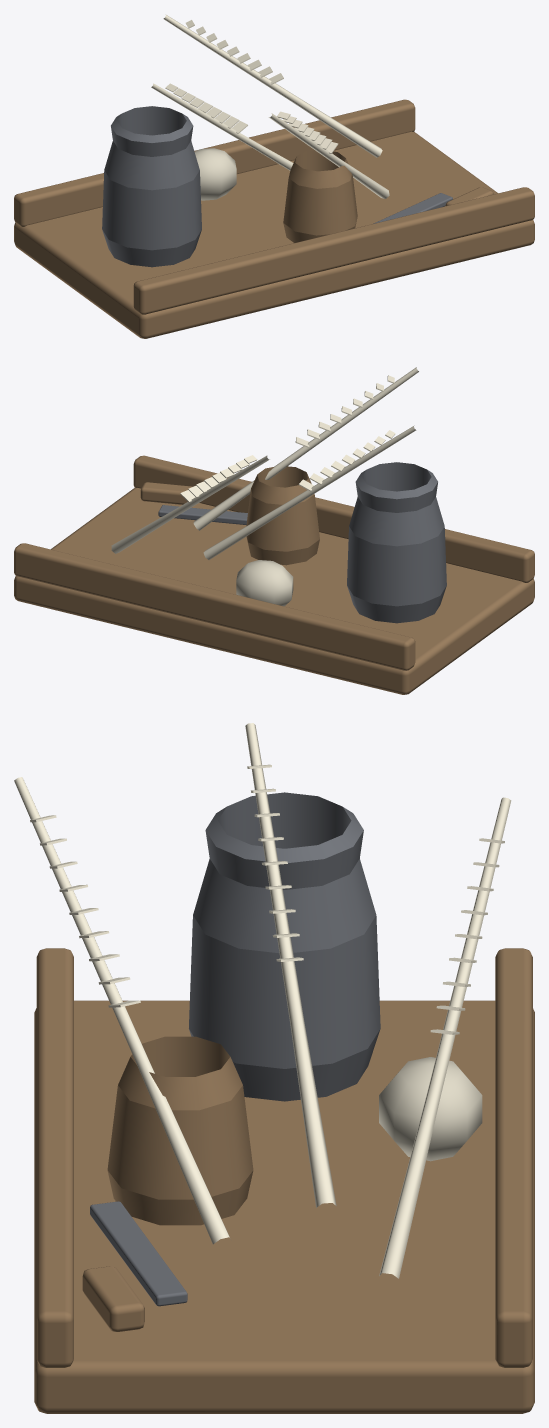
Rendered from quill-and-inkhorn-s.glb.
The picture shows the model from 3 angles, top to bottom: view 1: azimuth 30°, elevation 25°; view 2: azimuth 150°, elevation 25°; view 3: azimuth 270°, elevation 25°; orthographic projection. The views are drawn at different scales.
Visible parts, largest first — view 1: quill-and-inkhorn-set; view 2: quill-and-inkhorn-set; view 3: quill-and-inkhorn-set.
Part boxes in pixels (x1,y1,x2,y2): quill-and-inkhorn-set: [14, 14, 534, 338]; quill-and-inkhorn-set: [14, 367, 534, 694]; quill-and-inkhorn-set: [14, 723, 534, 1413].
Bounding box in the file's own units: 0.42 × 0.2053 × 0.2498.
